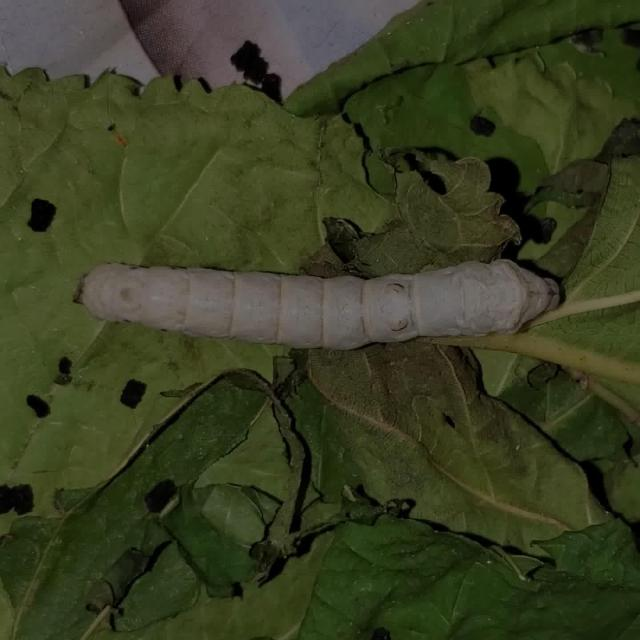Healthy: (62, 224, 594, 367)
